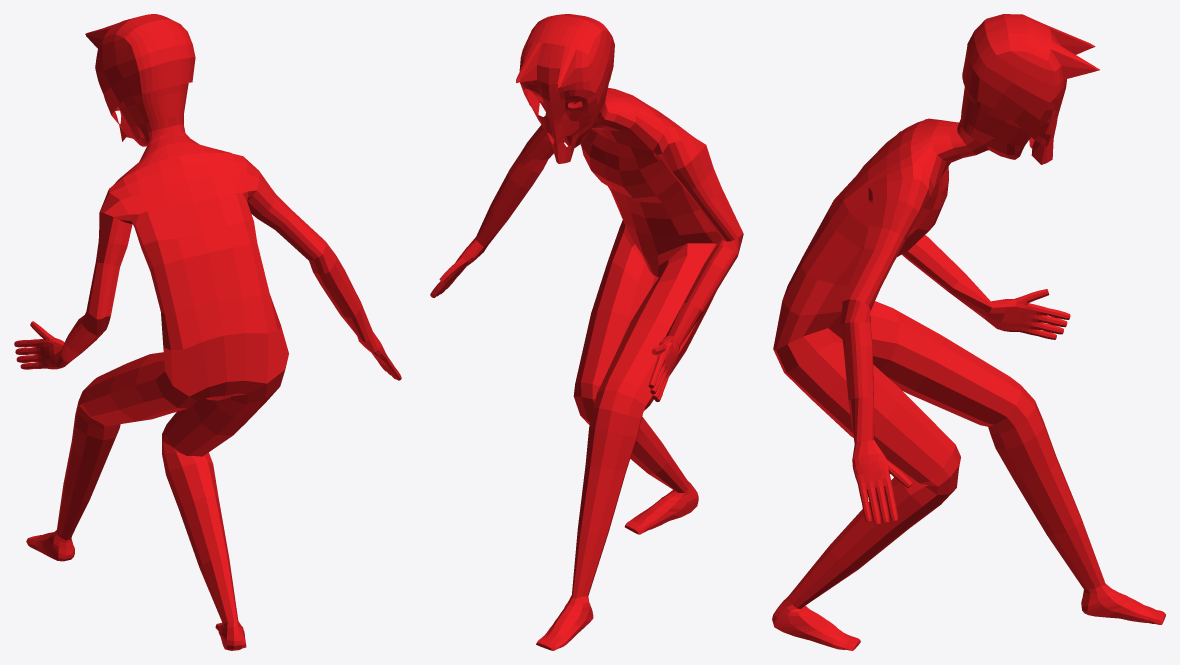
Rendered from saltoadelanteE_000135.obj.
3 views of the same model, side by side, from view 1: azimuth 30°, elevation 25°; view 2: azimuth 150°, elevation 25°; view 3: azimuth 270°, elevation 25° (orthographic). The views are drawn at different scales.
Visible parts, largest first — view 1: Plane.002_Plane.001; view 2: Plane.002_Plane.001; view 3: Plane.002_Plane.001.
Boxes of the visible parts, x1=… form: Plane.002_Plane.001: x1=14, y1=14, x2=401, y2=650; Plane.002_Plane.001: x1=430, y1=14, x2=743, y2=650; Plane.002_Plane.001: x1=772, y1=14, x2=1165, y2=650.
Bounding box in the file's own units: 3.22 × 5.63 × 3.22.
